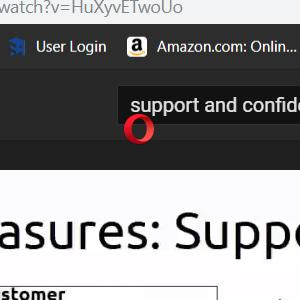opera: (123, 112, 155, 145)
